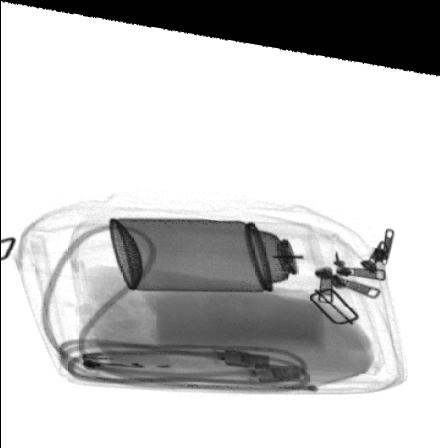Lighter: (77, 342, 173, 367)
Sprayer: (109, 212, 335, 284)
